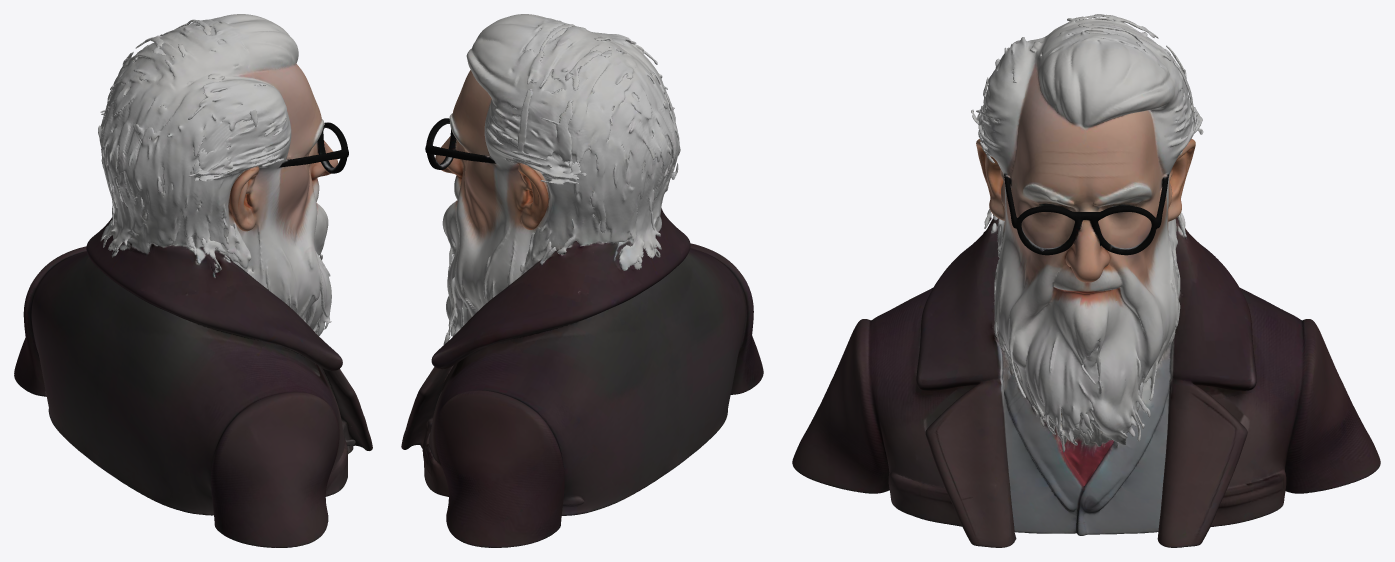
File: detailed_realistic_model_albusdumbledore_08.glb
3 renders of one model, left to right at view 1: azimuth 30°, elevation 25°; view 2: azimuth 150°, elevation 25°; view 3: azimuth 270°, elevation 25°, orthographic. The views are drawn at different scales.
Visible parts, largest first — view 1: tripo_node_9061bede-aa24-41d3-96d0-2ab0128e0da0; view 2: tripo_node_9061bede-aa24-41d3-96d0-2ab0128e0da0; view 3: tripo_node_9061bede-aa24-41d3-96d0-2ab0128e0da0.
Boxes of the visible parts, x1=… form: tripo_node_9061bede-aa24-41d3-96d0-2ab0128e0da0: x1=14, y1=14, x2=372, y2=547; tripo_node_9061bede-aa24-41d3-96d0-2ab0128e0da0: x1=401, y1=14, x2=763, y2=547; tripo_node_9061bede-aa24-41d3-96d0-2ab0128e0da0: x1=792, y1=14, x2=1380, y2=547.
Size of the model in its own units: 0.5249 by 0.8621 by 1.
Materials: 1 (1 with a texture image).
